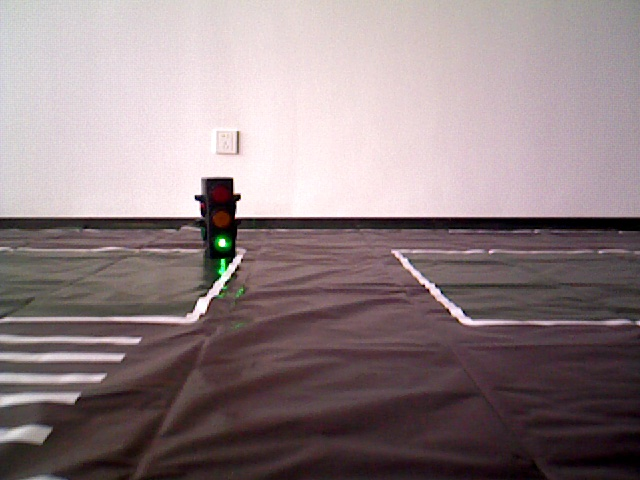green: (202, 178, 234, 251)
